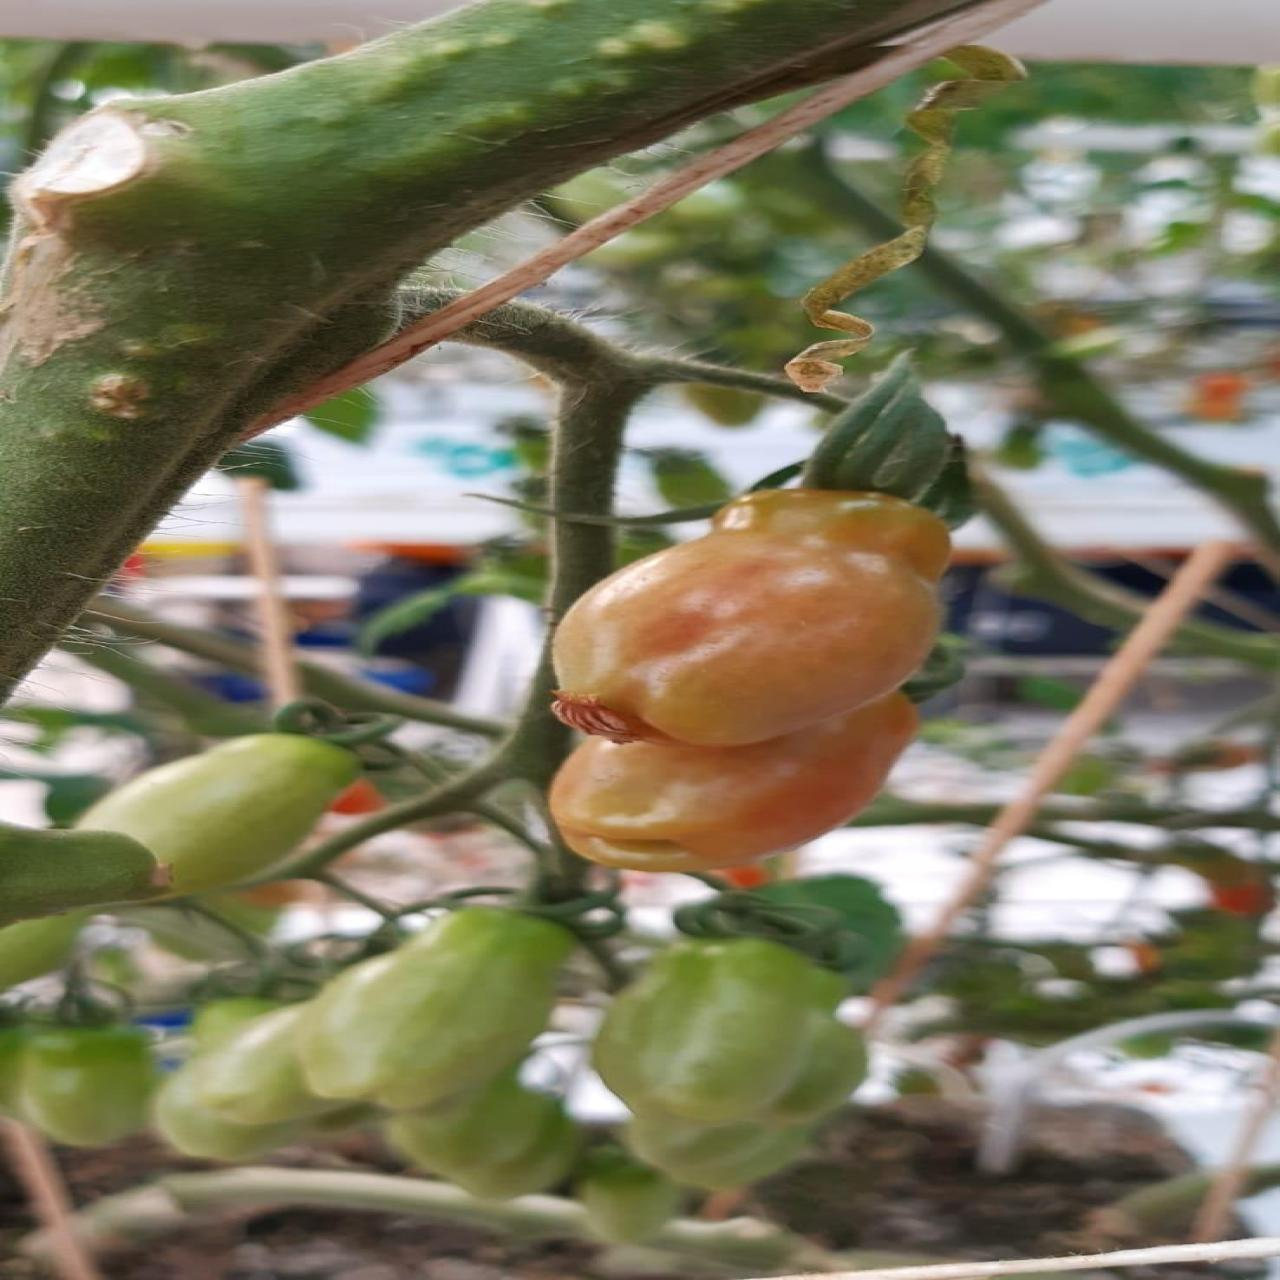T_F_H: (549, 489, 948, 747), (547, 692, 917, 873)
